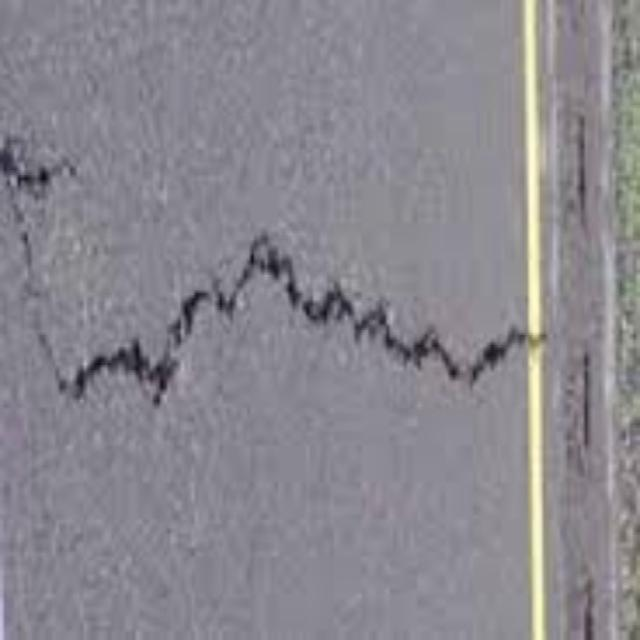Transverse: (0, 136, 573, 396)
